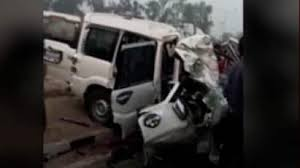accident: (54, 23, 223, 141)
